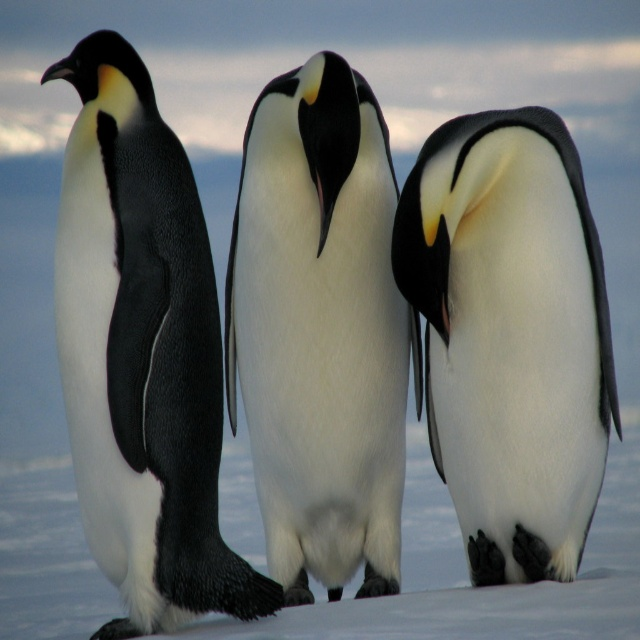Penguin: (39, 28, 284, 639), (220, 44, 427, 612), (389, 101, 627, 590)
